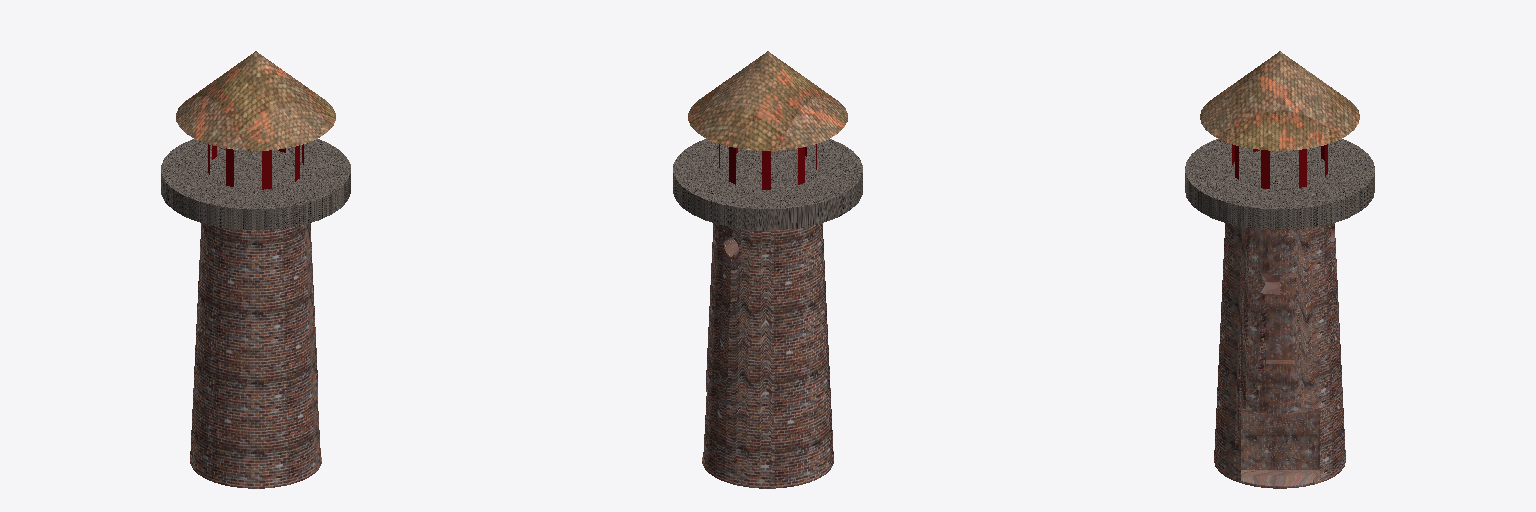
3 renders of one model, left to right at view 1: azimuth 30°, elevation 25°; view 2: azimuth 150°, elevation 25°; view 3: azimuth 270°, elevation 25°, orthographic.
Visible parts, largest first — view 1: Circle; view 2: Circle; view 3: Circle.
Part boxes in pixels (x1,y1,x2,y2): Circle: (161,51,350,488); Circle: (673,51,862,488); Circle: (1185,51,1374,488).
Bounding box in the file's own units: 1.85 × 4.38 × 1.85.
Materials: 4 (1 with a texture image).